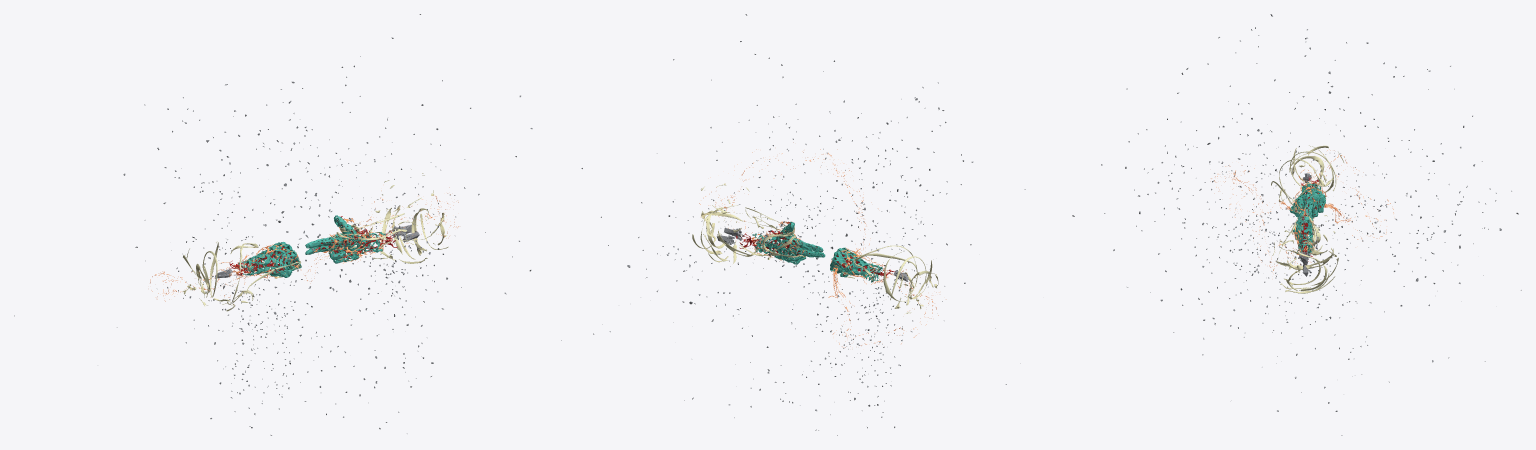
Rendered from tamly-v4.glb.
3 renders of one model, left to right at view 1: azimuth 30°, elevation 25°; view 2: azimuth 150°, elevation 25°; view 3: azimuth 270°, elevation 25°, orthographic. The views are drawn at different scales.
Visible parts, largest first — view 1: Fractures-Surrounding_BlackCrystalMat_0, Bandages.001_Bandages_0, HandsSkin.001_HandSkinMat_0, HandsSkin_HandSkinMat_0, Bandages_Bandages_0, Gold-Sprinkles_GoldMat_0, HandsBlood.001_BloodMat_0; view 2: Fractures-Surrounding_BlackCrystalMat_0, Bandages.001_Bandages_0, HandsSkin.001_HandSkinMat_0, Bandages_Bandages_0, HandsSkin_HandSkinMat_0, Gold-Sprinkles_GoldMat_0; view 3: Fractures-Surrounding_BlackCrystalMat_0, Bandages.001_Bandages_0, Bandages_Bandages_0, HandsSkin_HandSkinMat_0, HandsSkin.001_HandSkinMat_0, Gold-Sprinkles_GoldMat_0.
Part boxes in pixels (x1,y1,x2,y2): Fractures-Surrounding_BlackCrystalMat_0: (14, 14, 532, 435); Bandages.001_Bandages_0: (328, 169, 448, 263); HandsSkin.001_HandSkinMat_0: (305, 215, 385, 263); HandsSkin_HandSkinMat_0: (238, 242, 301, 277); Bandages_Bandages_0: (183, 241, 300, 311); Gold-Sprinkles_GoldMat_0: (150, 187, 458, 301); HandsBlood.001_BloodMat_0: (313, 216, 397, 258); Fractures-Surrounding_BlackCrystalMat_0: (561, 14, 1025, 435); Bandages.001_Bandages_0: (692, 183, 802, 263); HandsSkin.001_HandSkinMat_0: (752, 221, 825, 264); Bandages_Bandages_0: (842, 245, 938, 313); HandsSkin_HandSkinMat_0: (830, 247, 883, 282); Gold-Sprinkles_GoldMat_0: (699, 142, 946, 347); Fractures-Surrounding_BlackCrystalMat_0: (1072, 14, 1521, 435); Bandages.001_Bandages_0: (1272, 206, 1338, 293); Bandages_Bandages_0: (1271, 145, 1343, 213); HandsSkin_HandSkinMat_0: (1289, 181, 1325, 218); HandsSkin.001_HandSkinMat_0: (1293, 202, 1313, 254); Gold-Sprinkles_GoldMat_0: (1210, 149, 1393, 272).
Bounding box in the file's own units: 10652 × 8835 × 10249.
5 materials, 3 textured.
